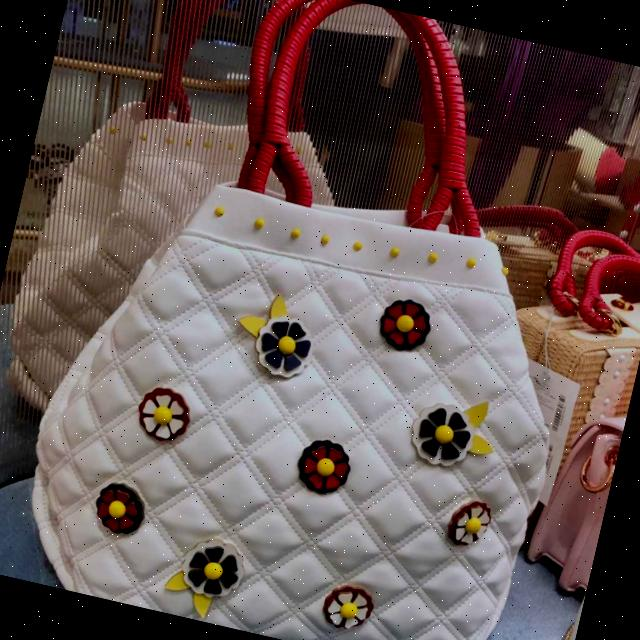Handbag: (0, 120, 605, 640)
